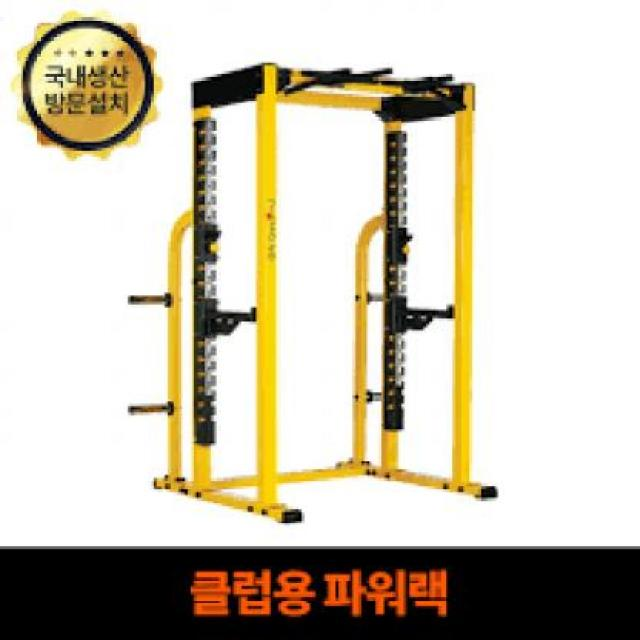smith machine: (163, 62, 502, 524)
